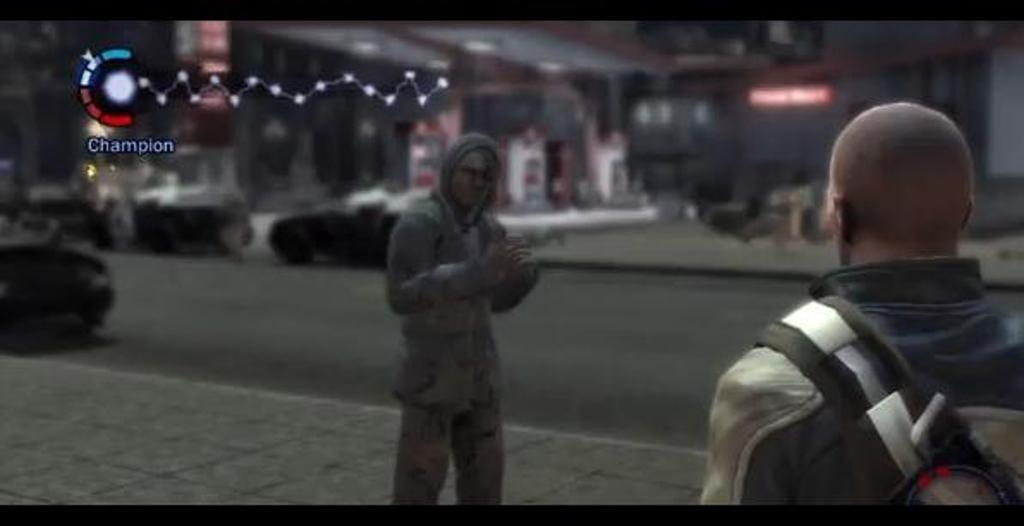face: (452, 153, 494, 207)
